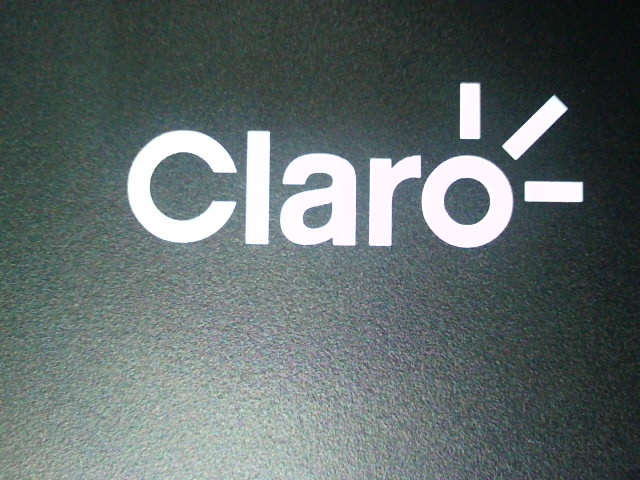BC_Claor: (110, 64, 595, 254)
